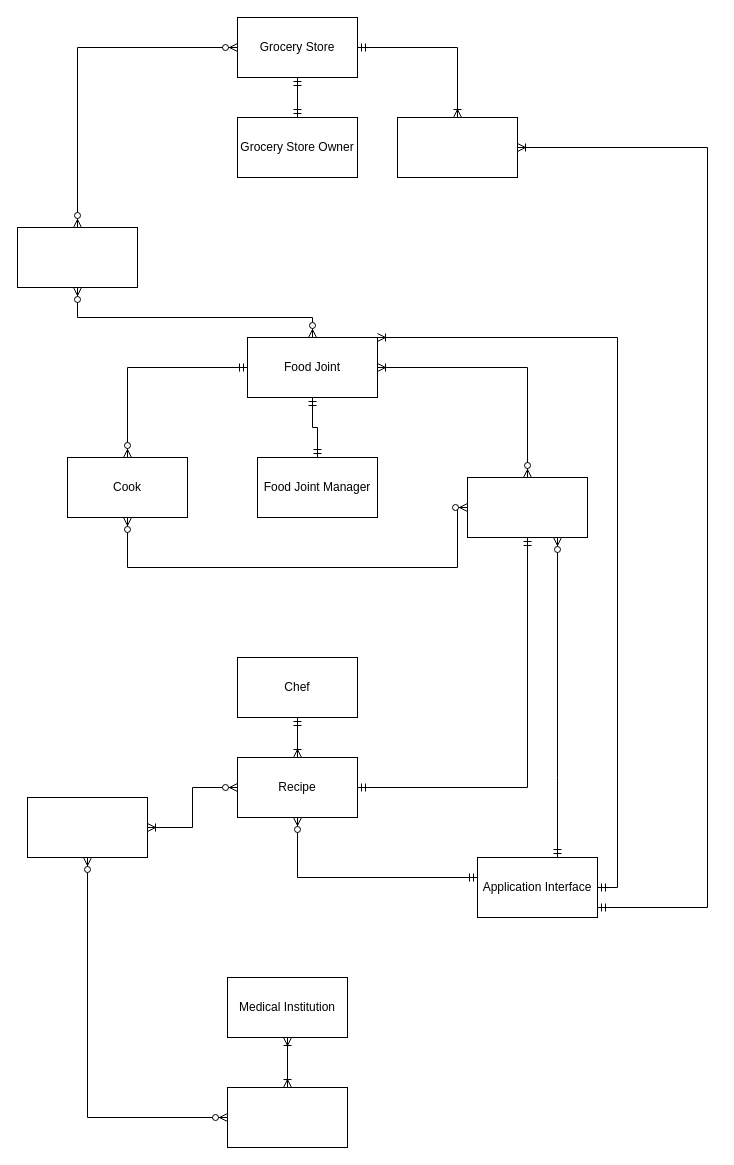
The diagram is 734 pixels wide and 1165 high, and some of its shapes have lost their labels. The shapes that lost their labels are listed below. From the top down, each one's box as (x1, y1, x2, y2) in pixels, then its label:
(396, 116, 518, 178): Ingredient
(16, 226, 138, 288): Payment Company
(466, 476, 588, 538): Food Item
(26, 796, 148, 858): Ingredients
(226, 1086, 348, 1148): Nutritionist
